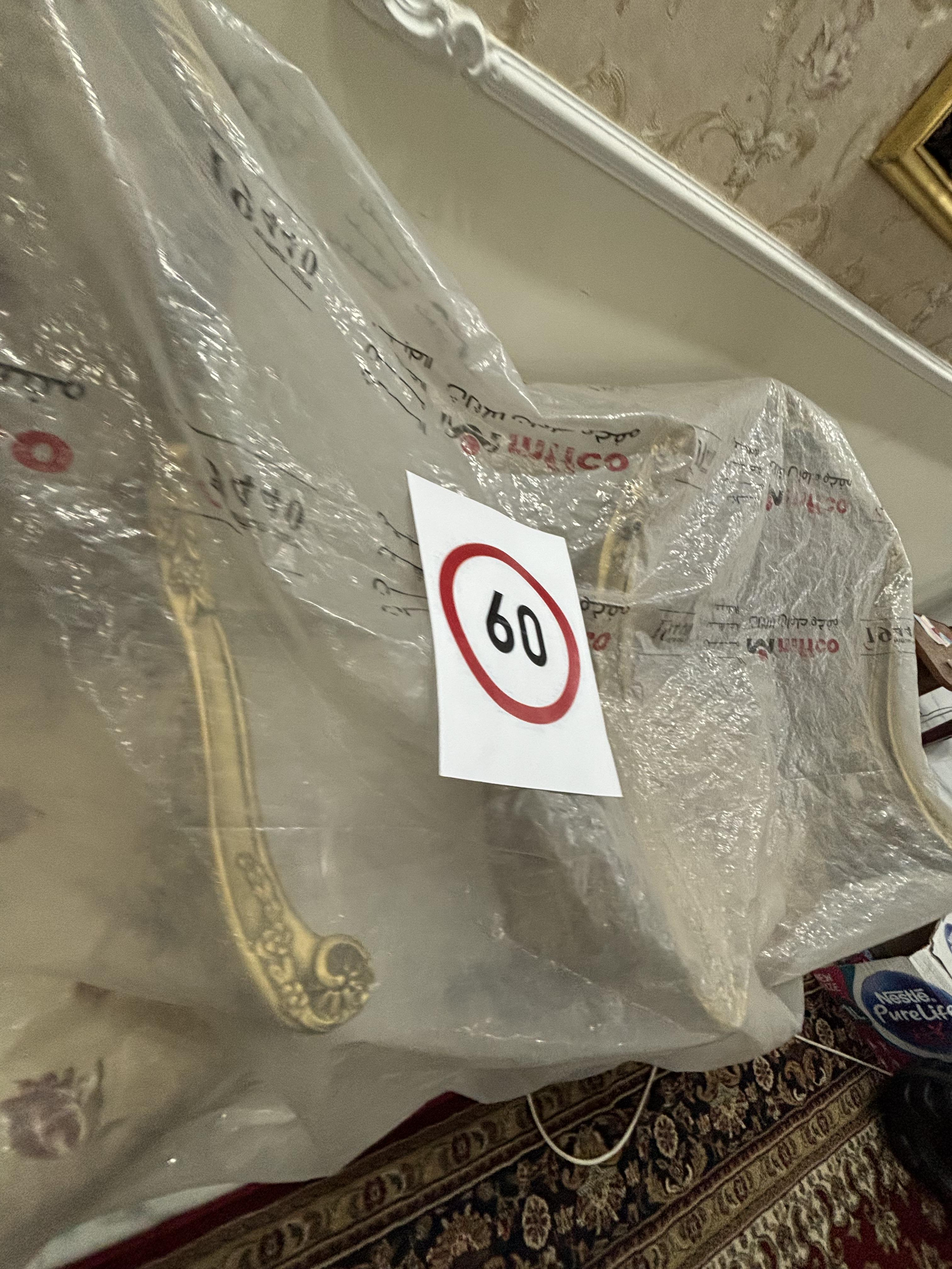60-Speed: (438, 529, 591, 744)
